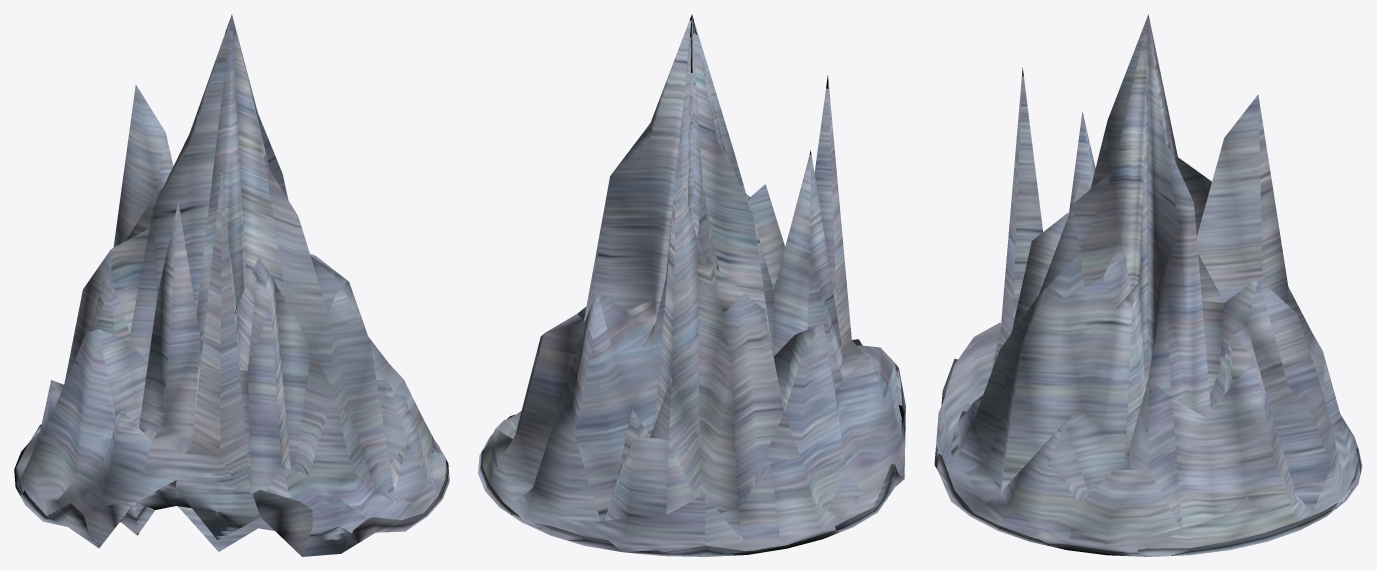
File: moutains.dae
The picture shows the model from 3 angles, left to right: view 1: azimuth 30°, elevation 25°; view 2: azimuth 150°, elevation 25°; view 3: azimuth 270°, elevation 25°; orthographic projection.
Parts seen in each view (by area): view 1: Sphere; view 2: Sphere; view 3: Sphere.
Part boxes in pixels (bbox=[...]): Sphere: bbox=[14, 14, 449, 556]; Sphere: bbox=[478, 14, 905, 556]; Sphere: bbox=[934, 14, 1362, 556].
Size of the model in its own units: 2 by 2 by 2.33.
Materials: 1 (1 with a texture image).
